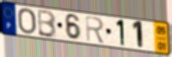1: (131, 20, 145, 52), (114, 19, 126, 49)
6: (64, 13, 83, 42)
B: (38, 9, 58, 39)
O: (17, 8, 37, 36)
R: (85, 15, 106, 45)
